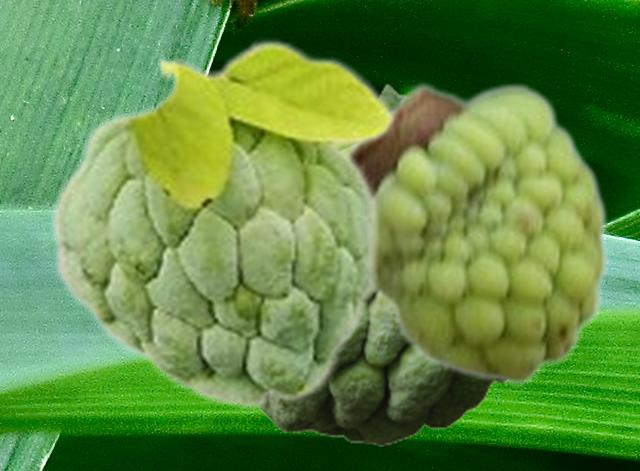atis: (47, 37, 397, 411), (258, 79, 503, 445), (353, 80, 610, 388)
